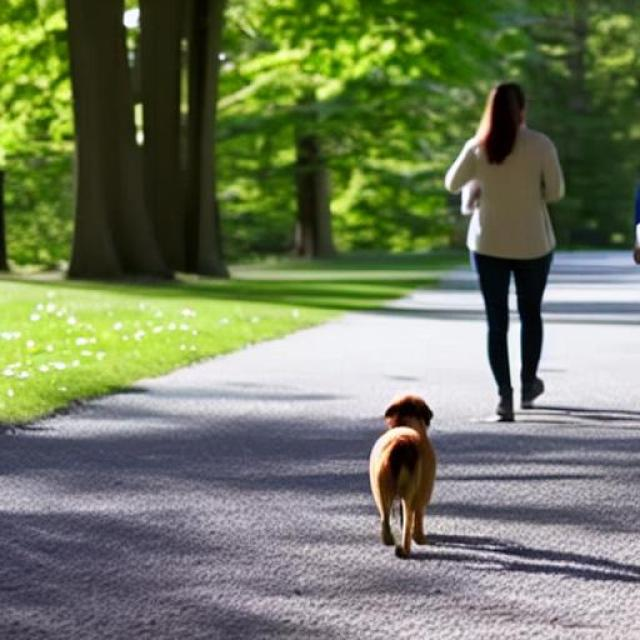Unleashed_Dog: (369, 259, 551, 558)
